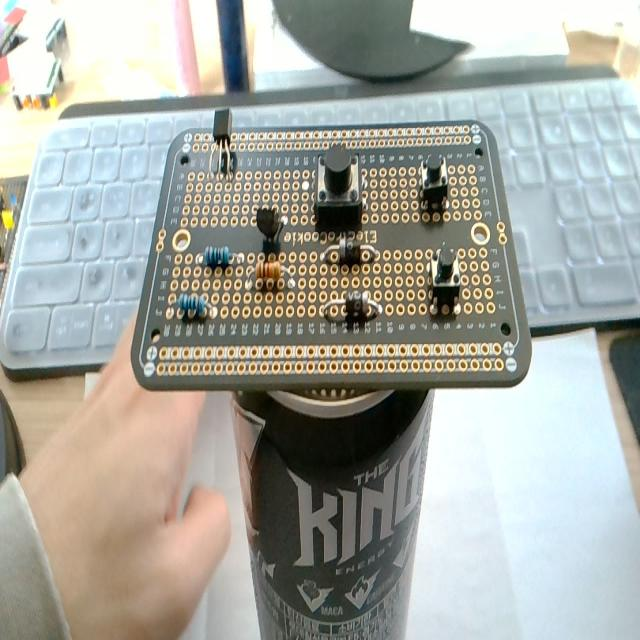diode: (324, 279, 382, 324), (321, 233, 381, 269)
resistor: (249, 254, 294, 284), (177, 293, 207, 320), (204, 245, 232, 270)
switch: (312, 146, 365, 233), (428, 243, 462, 316), (418, 153, 449, 217)
transistor: (210, 108, 234, 177), (255, 199, 291, 242)
